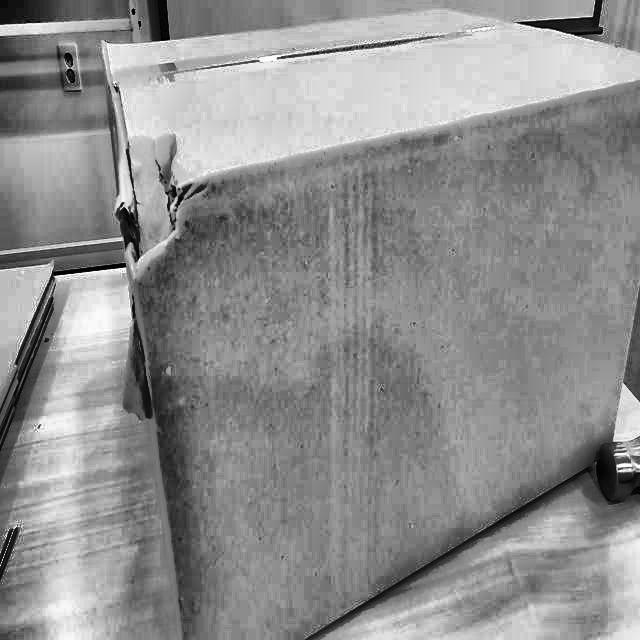box: (85, 0, 639, 639)
hole: (122, 126, 196, 275)
